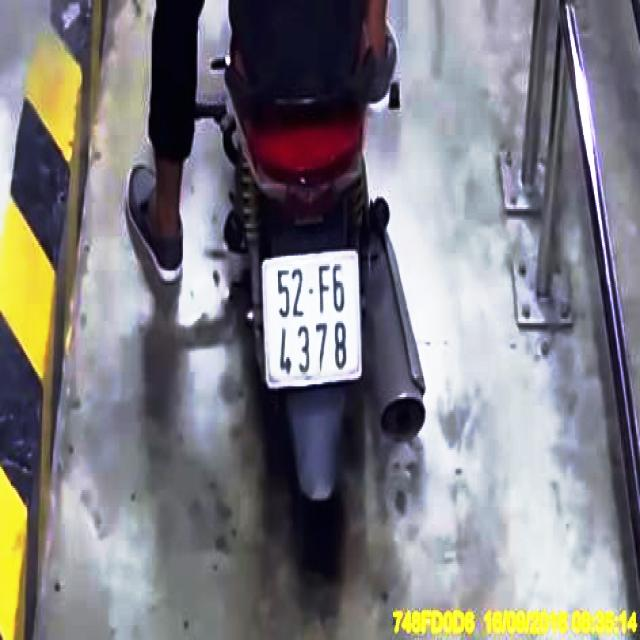license_plate: (267, 253, 362, 382)
